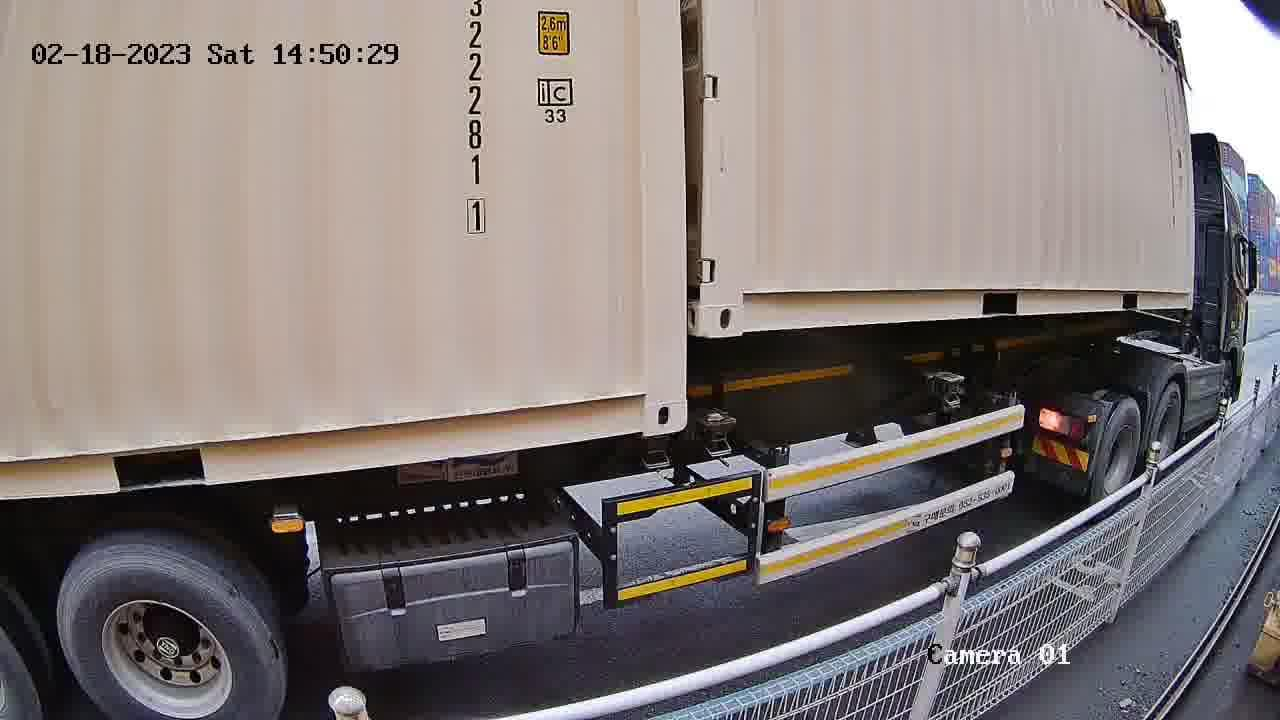Cone: (696, 410, 737, 467), (631, 435, 674, 478)
Hole_L: (701, 267, 783, 338)
Hole_R: (606, 371, 687, 436)
Tire: (60, 548, 282, 717), (1093, 398, 1143, 514), (1150, 386, 1182, 473)
